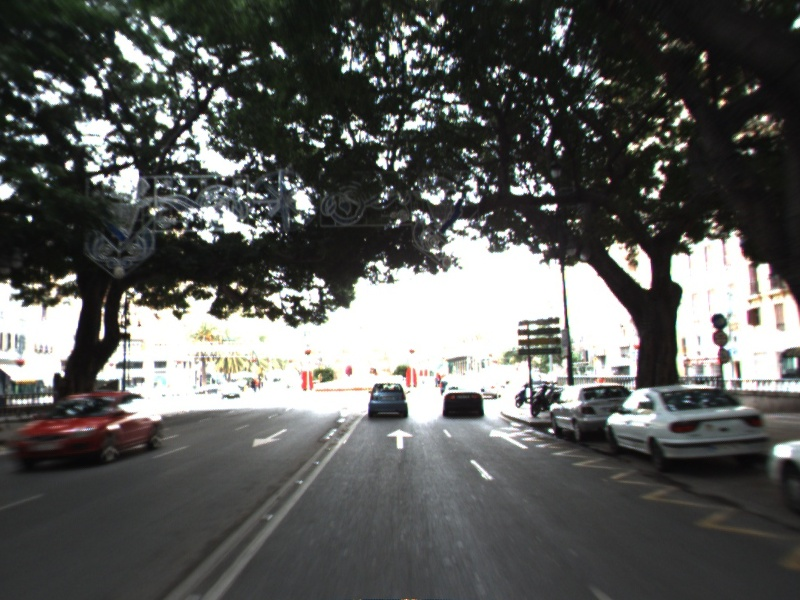STRAIGHT: (487, 427, 531, 451), (385, 427, 416, 451)
